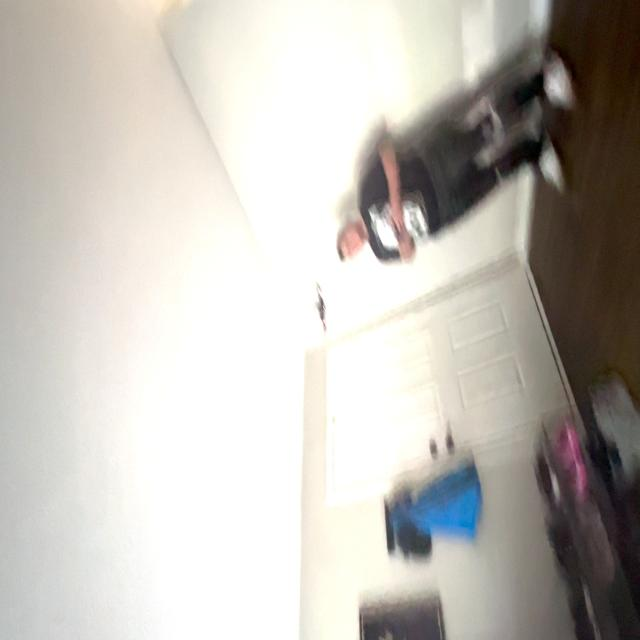drone: (301, 272, 335, 346)
